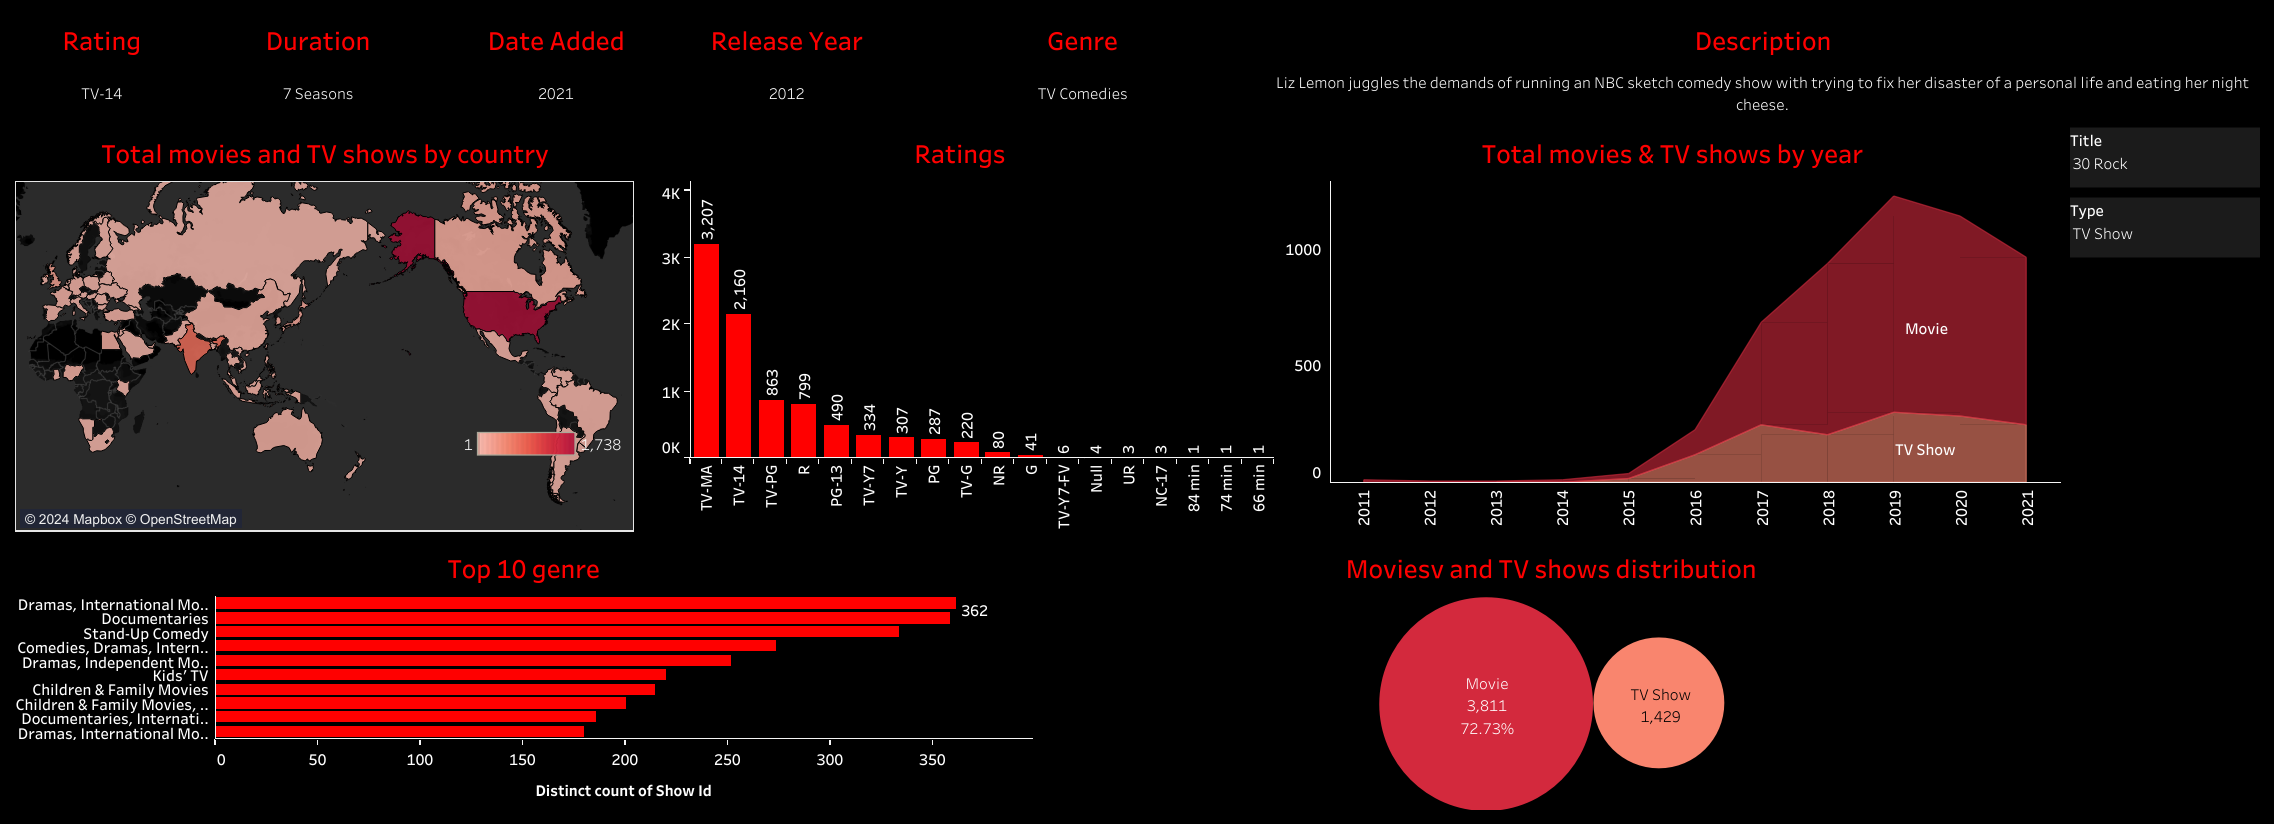

The dashboard page shown, as its layout file describes it:
{"tool":"tableau","page":{"name":"Netflix","canvas":[1000,1000],"units":"permille","ordinal":0},"visuals":[{"type":"worksheet","title":"rating","mark":"Automatic","box":[4.4,10.2,81,137.2]},{"type":"worksheet","title":"duration","mark":"Automatic","box":[85.4,10.2,109.1,137.2]},{"type":"worksheet","title":"date added ","mark":"Automatic","box":[194.4,10.2,100.1,137.2]},{"type":"worksheet","title":"release year","mark":"Automatic","box":[294.5,10.2,102.7,137.2]},{"type":"worksheet","title":"genre","mark":"Automatic","box":[397.2,10.2,157.3,137.2]},{"type":"worksheet","title":"description","mark":"Automatic","box":[554.5,10.2,441.1,137.2]},{"type":"worksheet","title":"Total movies and TV shows by country","mark":"Multipolygon","box":[4.4,147.5,276.9,505.3]},{"type":"worksheet","title":"ratings","mark":"Automatic","rows":["show_id"],"cols":["rating"],"box":[281.3,147.5,281.3,505.3]},{"type":"worksheet","title":"Total movies & TV shows by year","mark":"Area","rows":["show_id"],"cols":["date_added"],"box":[562.6,147.5,345.1,505.3]},{"type":"filter","title":"date added ","param":"[federated.1rax4cv1v5344j15mmaay03bwr92].[none:title:nk]","box":[907.7,147.5,87.9,78.1]},{"type":"filter","title":"date added ","param":"[federated.1rax4cv1v5344j15mmaay03bwr92].[none:type:nk]","box":[907.7,225.6,87.9,78.1]},{"type":"legend","title":"Total movies and TV shows by country","param":"[federated.1rax4cv1v5344j15mmaay03bwr92].[ctd:show_id:qk]","box":[201.7,518.6,74.2,53.8]},{"type":"worksheet","title":"Top10 genre","mark":"Automatic","rows":["listed_in"],"cols":["show_id"],"box":[4.4,652.8,451.6,337]},{"type":"worksheet","title":"Movies and TV shows distribution","mark":"Circle","box":[456,652.8,451.7,337]}]}

Visuals, with their boxes on the dashboard's canvas, which has no fixed pixel size, in thousandths of its width and height (x1, y1, x2, y2). These are canvas units, not pixel positions in the 2274x824 screenshot, which may show the page scaled, cropped or inside an application window:
"rating" worksheet: <region>4, 10, 85, 147</region>
"duration" worksheet: <region>85, 10, 194, 147</region>
"date added " worksheet: <region>194, 10, 294, 147</region>
"release year" worksheet: <region>294, 10, 397, 147</region>
"genre" worksheet: <region>397, 10, 554, 147</region>
"description" worksheet: <region>554, 10, 996, 147</region>
"Total movies and TV shows by country" worksheet (Multipolygon marks): <region>4, 148, 281, 653</region>
"ratings" worksheet: <region>281, 148, 563, 653</region>
"Total movies & TV shows by year" worksheet (Area marks): <region>563, 148, 908, 653</region>
"date added " filter: <region>908, 148, 996, 226</region>
"date added " filter: <region>908, 226, 996, 304</region>
"Total movies and TV shows by country" legend: <region>202, 519, 276, 572</region>
"Top10 genre" worksheet: <region>4, 653, 456, 990</region>
"Movies and TV shows distribution" worksheet (Circle marks): <region>456, 653, 908, 990</region>
